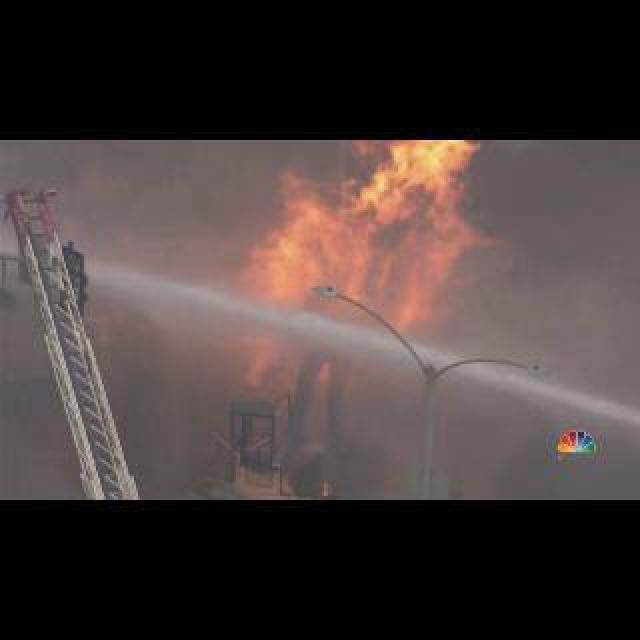fire: (250, 140, 497, 336)
